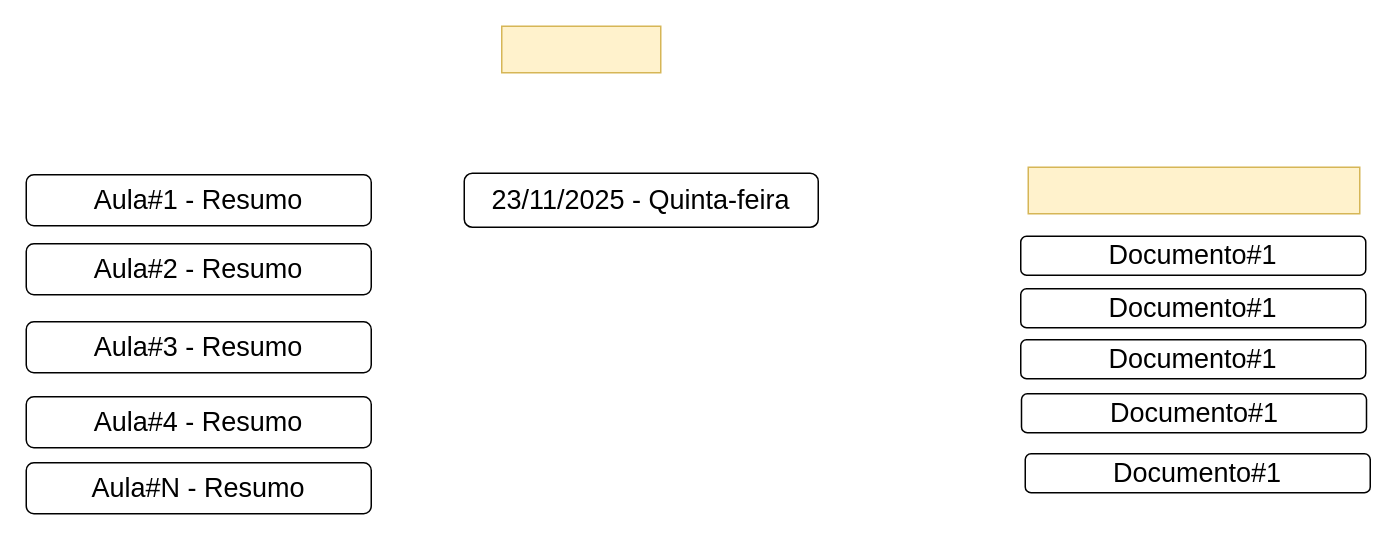
This 1397x540 diagram has some shape labels left out. Here are the shapes that lost their labels. From the top down, the centre of each, then its label:
(580,49): Matemática
(1193,190): Documentos importantes
